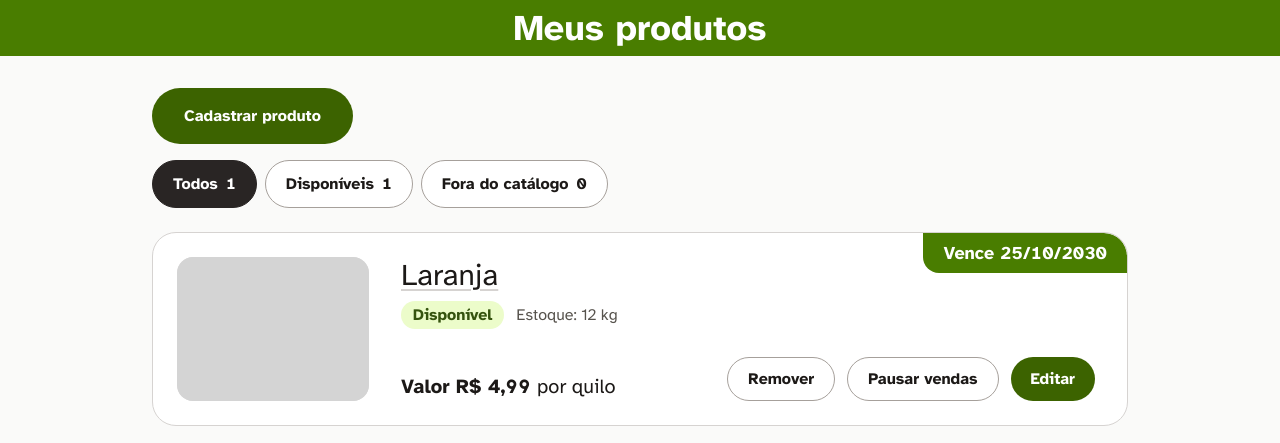
Scenario: MyProducts, pausing and the tabs › says when a tab has no products
The image size is (1280, 443).
Click the button "Fora do catálogo 0".
click(514, 184)  # box [421,160,608,208]
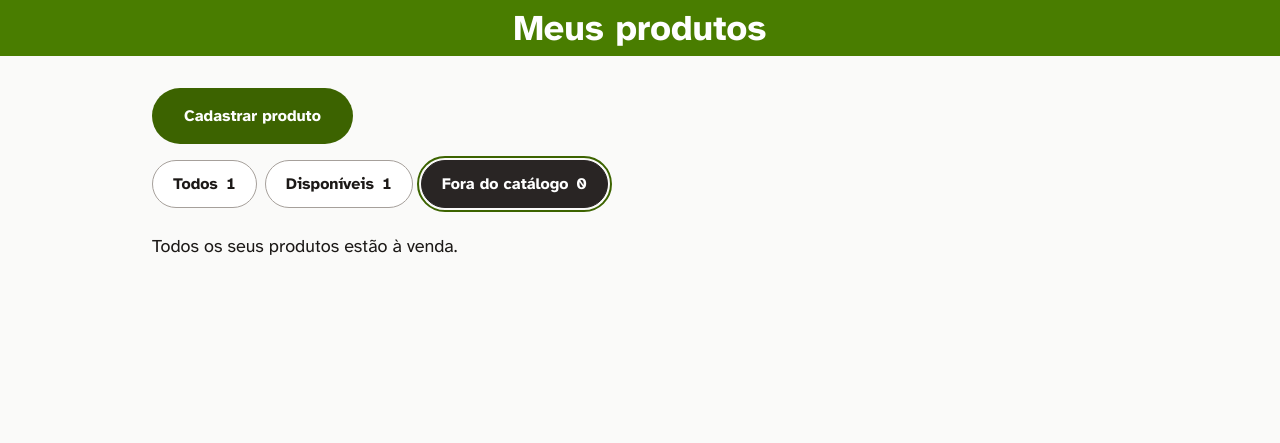
Now the text "Todos os seus produtos estão à venda." is shown, box [152,235,458,257]
